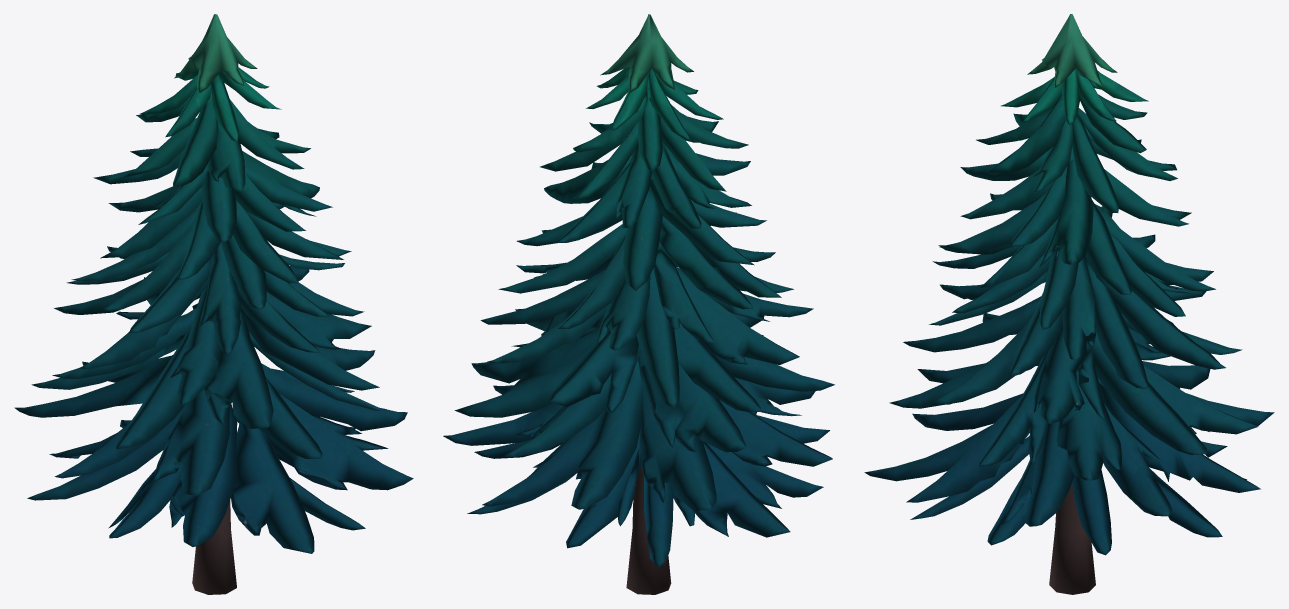
File: highland_pine.glb
3 views of the same model, side by side, from view 1: azimuth 30°, elevation 25°; view 2: azimuth 150°, elevation 25°; view 3: azimuth 270°, elevation 25° (orthographic).
Size of the model in its own units: 1.59 by 2.5 by 1.63.
1 material, 1 textured.
